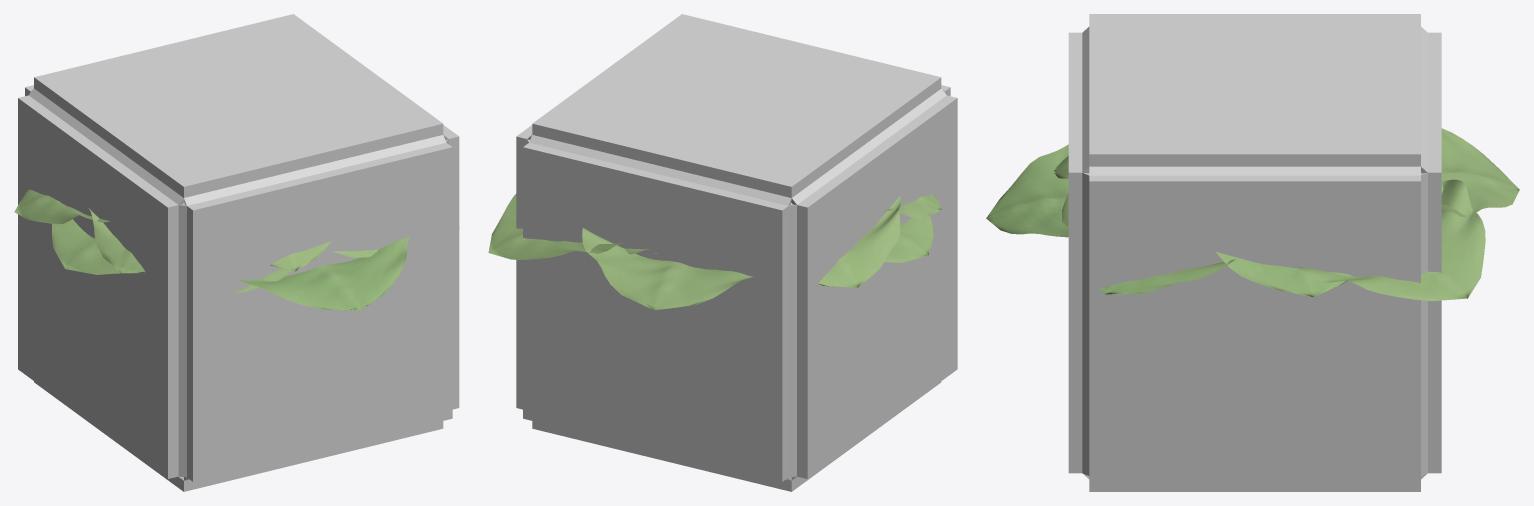
The model's file is lettuce.glb.
3 renders of one model, left to right at view 1: azimuth 30°, elevation 25°; view 2: azimuth 150°, elevation 25°; view 3: azimuth 270°, elevation 25°, orthographic. The views are drawn at different scales.
Visible parts, largest first — view 1: geo_24_2b9d3bb5, geo_29600_a2b51572; view 2: geo_24_2b9d3bb5, geo_29600_a2b51572; view 3: geo_24_2b9d3bb5, geo_29600_a2b51572.
Part boxes in pixels (<box>): geo_24_2b9d3bb5: <box>18,14,459,491</box>; geo_29600_a2b51572: <box>14,189,409,310</box>; geo_24_2b9d3bb5: <box>516,14,957,491</box>; geo_29600_a2b51572: <box>488,193,941,310</box>; geo_24_2b9d3bb5: <box>1068,14,1441,491</box>; geo_29600_a2b51572: <box>986,128,1519,301</box>.
Size of the model in its own units: 1.22 by 1 by 1.43.
